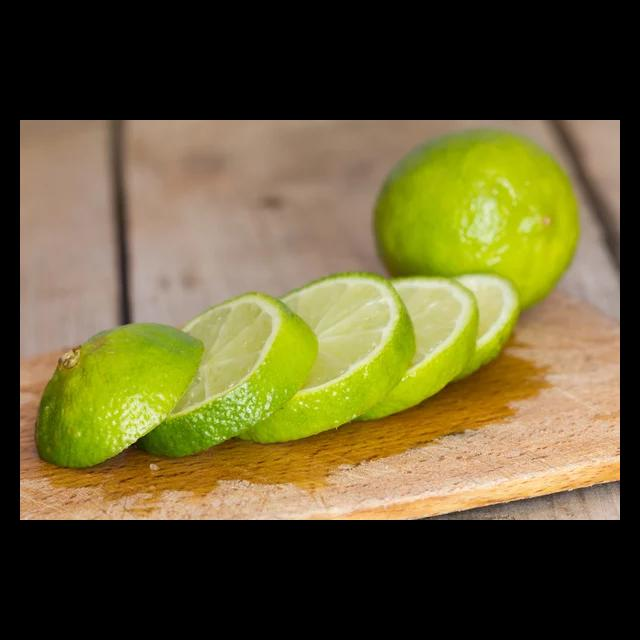lime: (363, 123, 586, 322)
